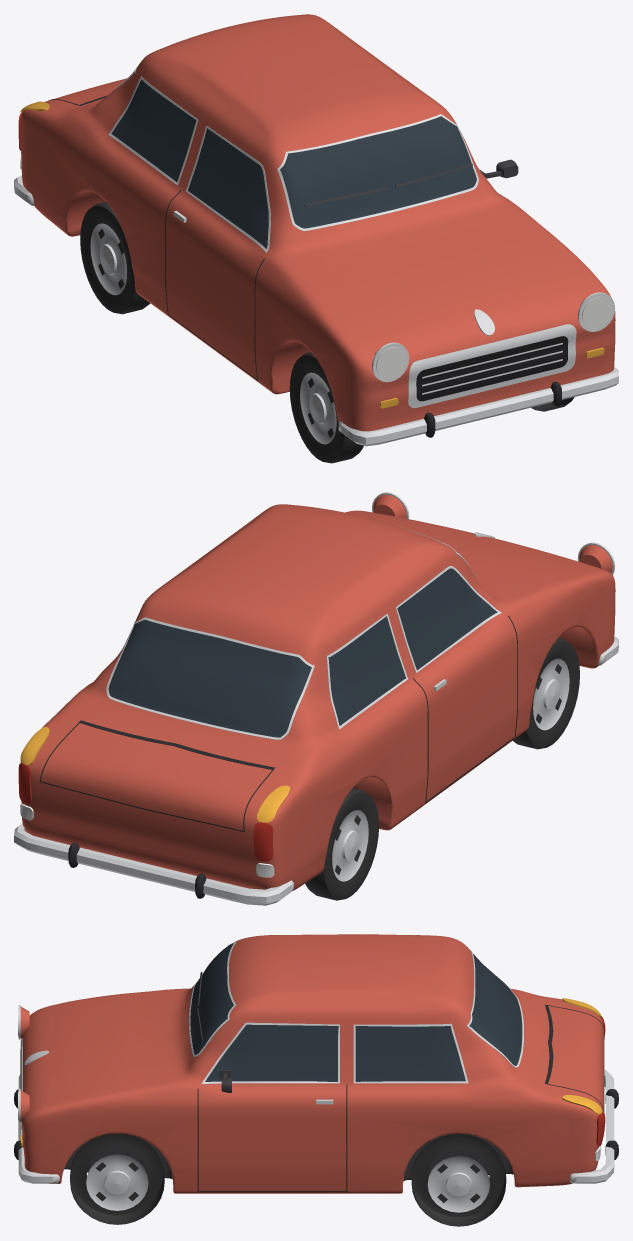
The model's file is trabant.glb.
The picture shows the model from 3 angles, top to bottom: view 1: azimuth 30°, elevation 25°; view 2: azimuth 150°, elevation 25°; view 3: azimuth 270°, elevation 25°; orthographic projection. The views are drawn at different scales.
Parts seen in each view (by area): view 1: paint, glass, trim, wheel_rr, wheel_fr, headlights; view 2: paint, glass, trim, wheel_rr, wheel_fr, taillights, rear_blinker_right, rear_blinker_left; view 3: paint, glass, trim, wheel_rl, wheel_fl.
Boxes of the visible parts, left/top/right/bottom form: paint: left=20, top=14, right=615, bottom=431; glass: left=111, top=70, right=476, bottom=248; trim: left=14, top=62, right=618, bottom=446; wheel_rr: left=80, top=202, right=150, bottom=314; wheel_fr: left=289, top=352, right=363, bottom=463; headlights: left=376, top=296, right=612, bottom=379; paint: left=20, top=504, right=615, bottom=890; glass: left=108, top=552, right=497, bottom=737; trim: left=14, top=492, right=618, bottom=905; wheel_rr: left=305, top=788, right=378, bottom=900; wheel_fr: left=513, top=638, right=579, bottom=749; taillights: left=18, top=763, right=273, bottom=861; rear_blinker_right: left=257, top=785, right=290, bottom=822; rear_blinker_left: left=20, top=726, right=49, bottom=765; paint: left=21, top=934, right=603, bottom=1193; glass: left=190, top=943, right=522, bottom=1082; trim: left=14, top=942, right=618, bottom=1191; wheel_rl: left=411, top=1134, right=506, bottom=1226; wheel_fl: left=70, top=1133, right=164, bottom=1224.
Bounding box in the file's own units: 1.59 × 1.44 × 3.58.
